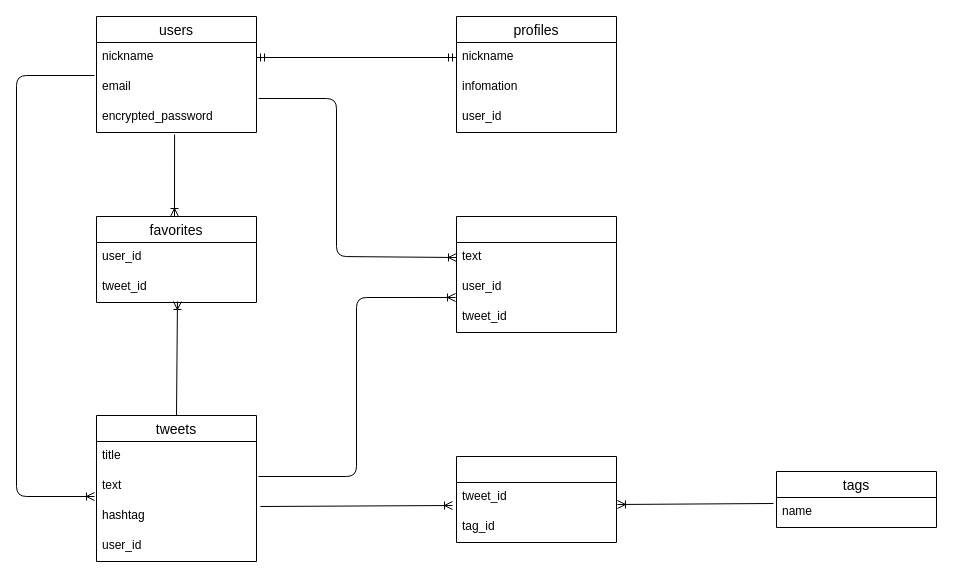
This 953x578 diagram has some shape labels left out. The box of each missing label's shape, as (x1, y1, x2, y2) in pixels:
comments: (456, 216, 616, 332)
tweet_tags: (456, 456, 616, 542)
